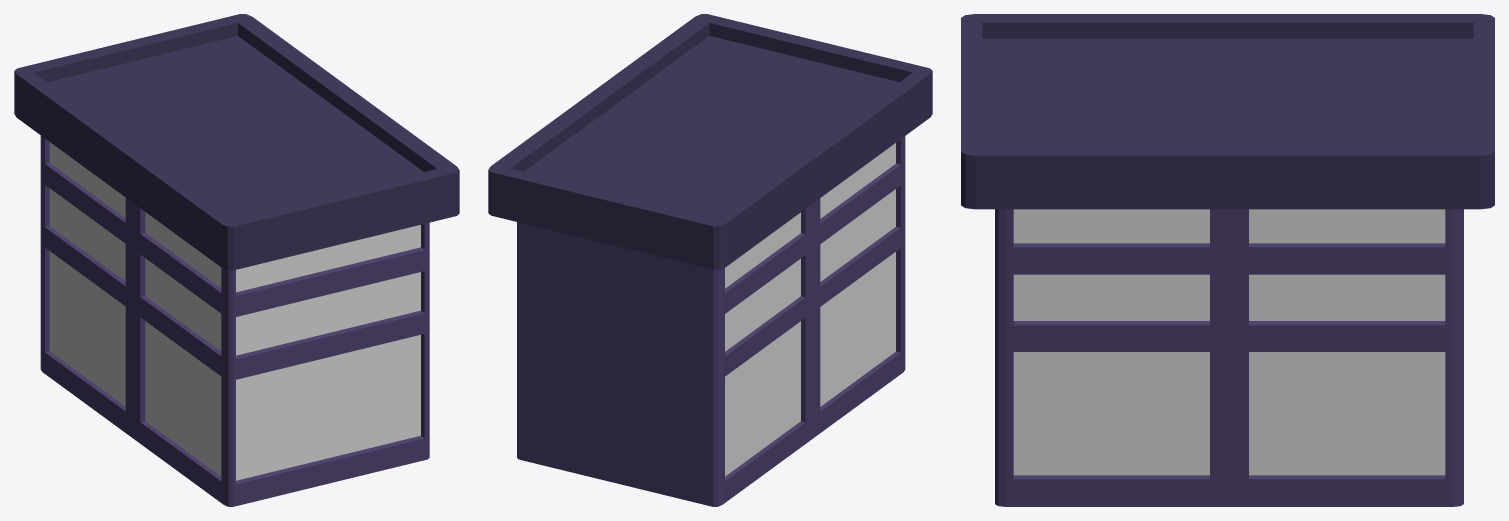
Rendered from Batiment_A.fbx.
3 renders of one model, left to right at view 1: azimuth 30°, elevation 25°; view 2: azimuth 150°, elevation 25°; view 3: azimuth 270°, elevation 25°, orthographic. The views are drawn at different scales.
Visible parts, largest first — view 1: Batiment; view 2: Batiment; view 3: Batiment.
Boxes of the visible parts, bbox=[...] form: Batiment: bbox=[14, 14, 459, 506]; Batiment: bbox=[488, 14, 932, 506]; Batiment: bbox=[961, 14, 1494, 506].
Size of the model in its own units: 216 by 257 by 344.
